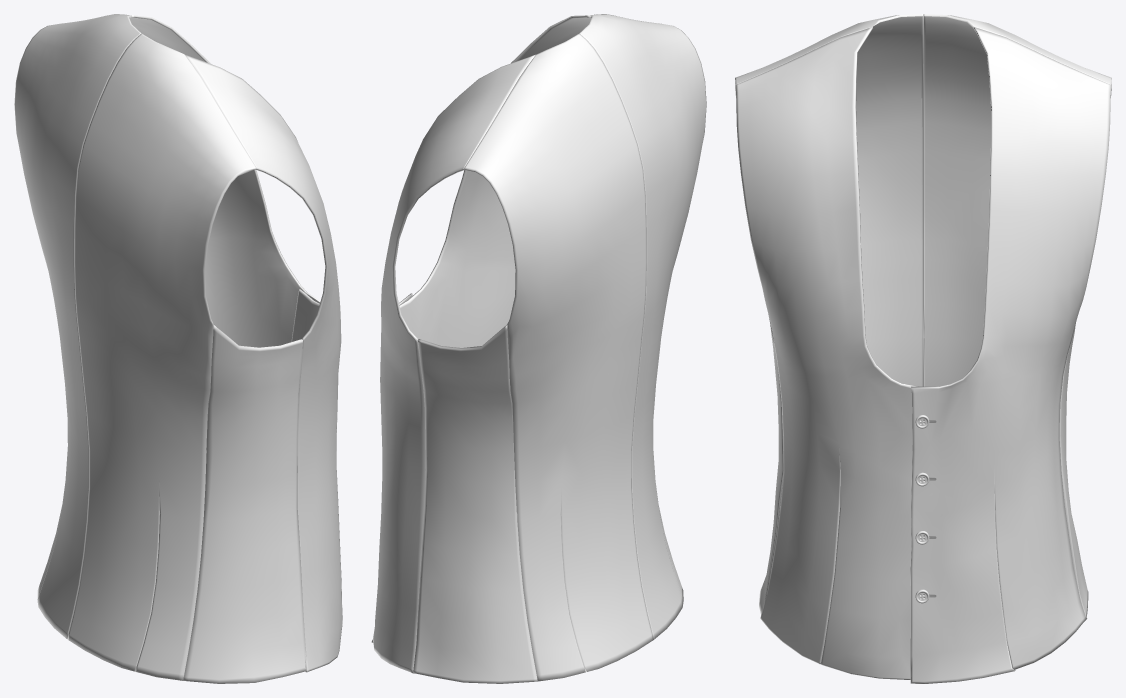
The model's file is single_breasted_4_buttons_horse_shoe_with_straight_bottom.glb.
3 renders of one model, left to right at view 1: azimuth 30°, elevation 25°; view 2: azimuth 150°, elevation 25°; view 3: azimuth 270°, elevation 25°, orthographic. The views are drawn at different scales.
Parts seen in each view (by area): view 1: SM_Vest_Back_outside, SM_Vest_front_Sigle_4Button_Straight; view 2: SM_Vest_Back_outside, SM_Vest_front_Sigle_4Button_Straight; view 3: SM_Vest_front_Sigle_4Button_Straight, SM_Vest_Back_outside, SM_Button_4.
Boxes of the visible parts, left/top/right/bottom form: SM_Vest_Back_outside: left=14, top=14, right=306, bottom=683; SM_Vest_front_Sigle_4Button_Straight: left=129, top=15, right=342, bottom=672; SM_Vest_Back_outside: left=413, top=14, right=706, bottom=683; SM_Vest_front_Sigle_4Button_Straight: left=371, top=15, right=591, bottom=673; SM_Vest_front_Sigle_4Button_Straight: left=735, top=27, right=1111, bottom=683; SM_Vest_Back_outside: left=735, top=14, right=1111, bottom=619; SM_Button_4: left=915, top=415, right=936, bottom=603.
Size of the model in its own units: 1.55 by 3.65 by 2.12.
5 materials, 1 textured.
